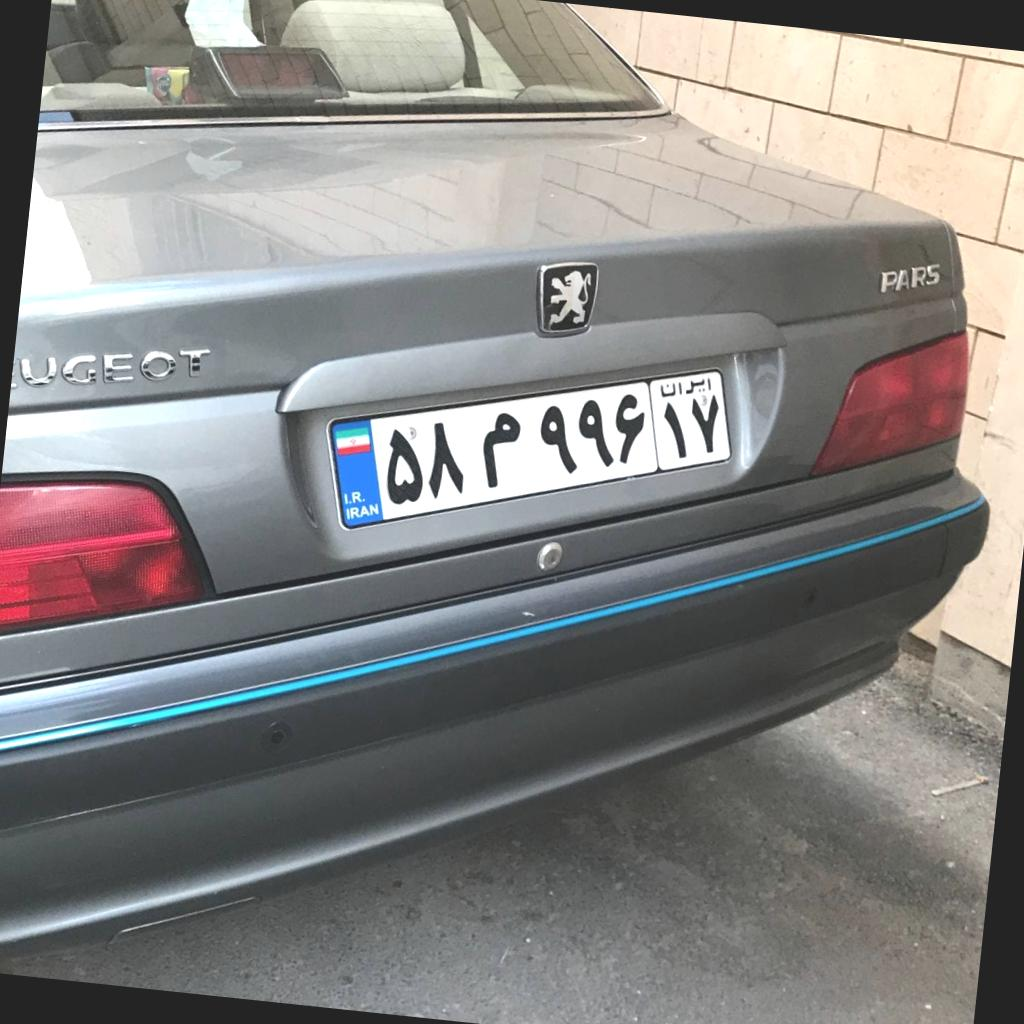Plates: (327, 369, 731, 530)
